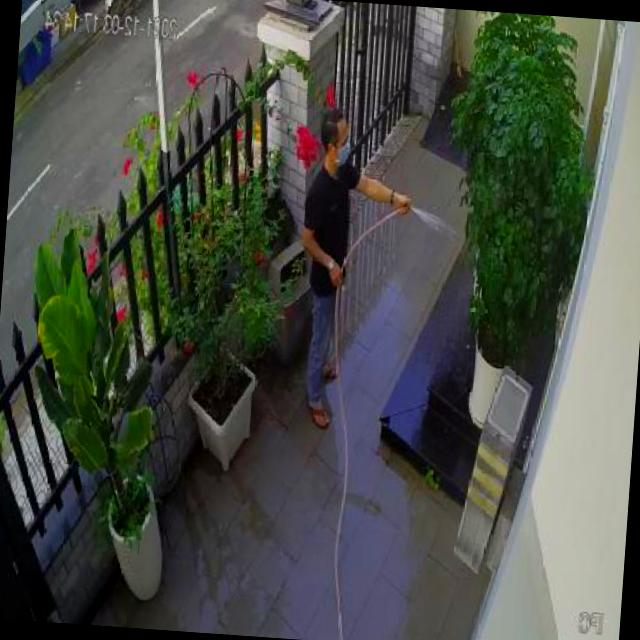Person: (288, 108, 417, 433)
